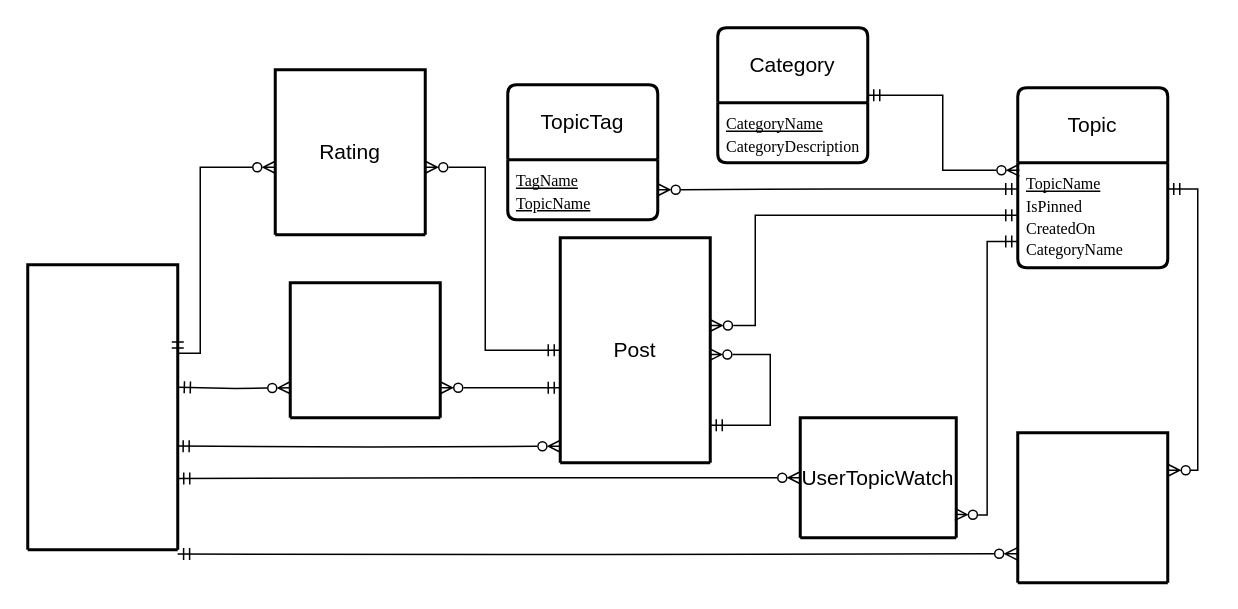
The diagram is 1238 pixels wide and 609 high, and some of its shapes have lost their labels. Here are the shapes that lost their labels. From the top down, the centre of each, then its label:
At (x=364, y=349): "UserPostWatch".
At (x=102, y=406): "User".
At (x=1092, y=507): "Log".
